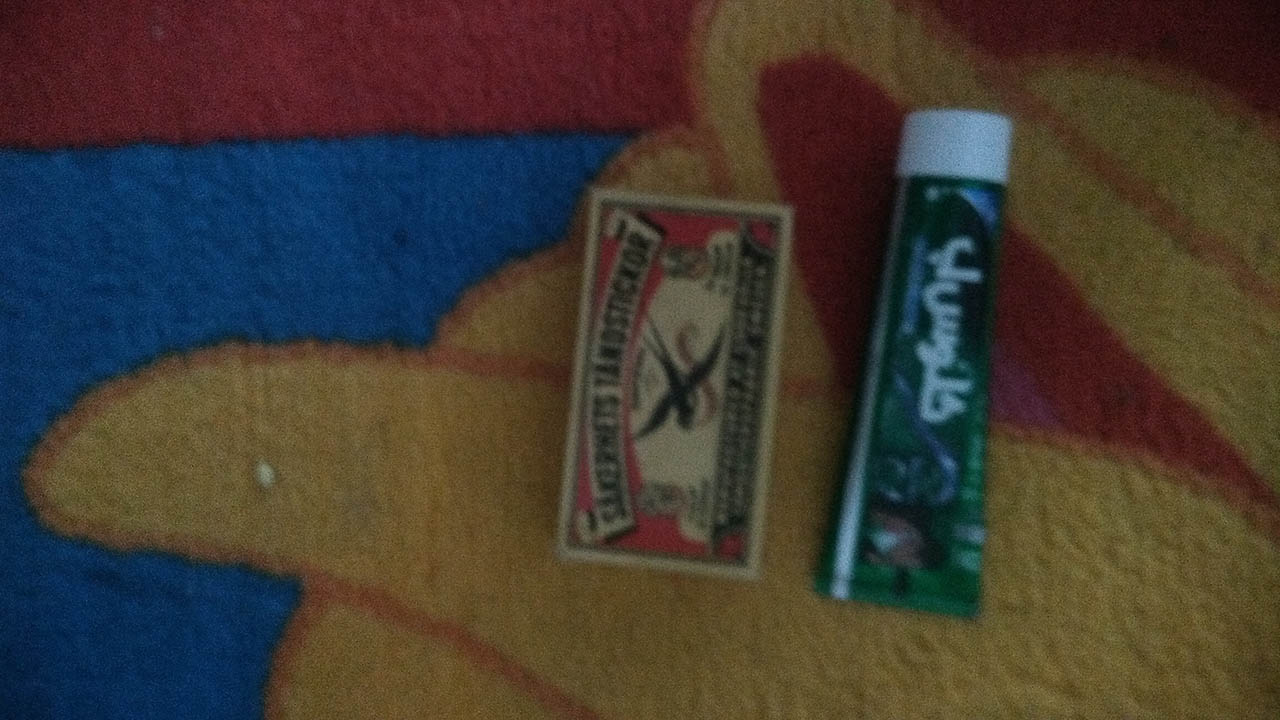Toothpaste-Closeup 3.04$: (799, 92, 1040, 608)
match-sticks .90$: (521, 190, 830, 580)
